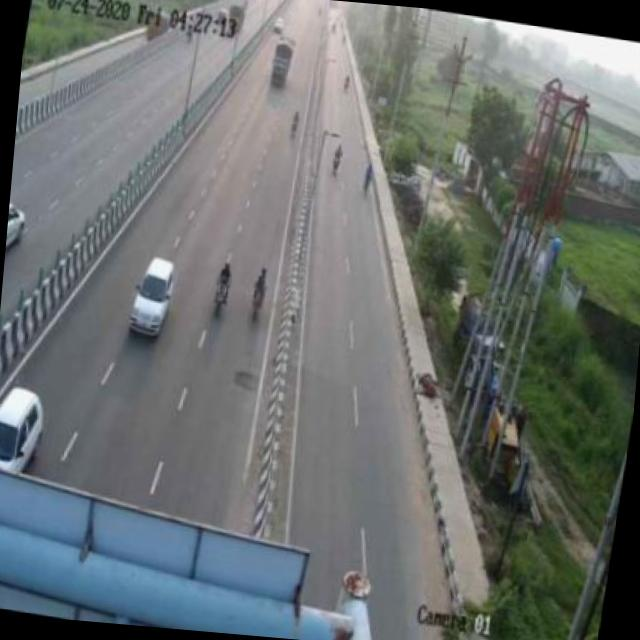car: (0, 377, 57, 512), (116, 242, 183, 347)
